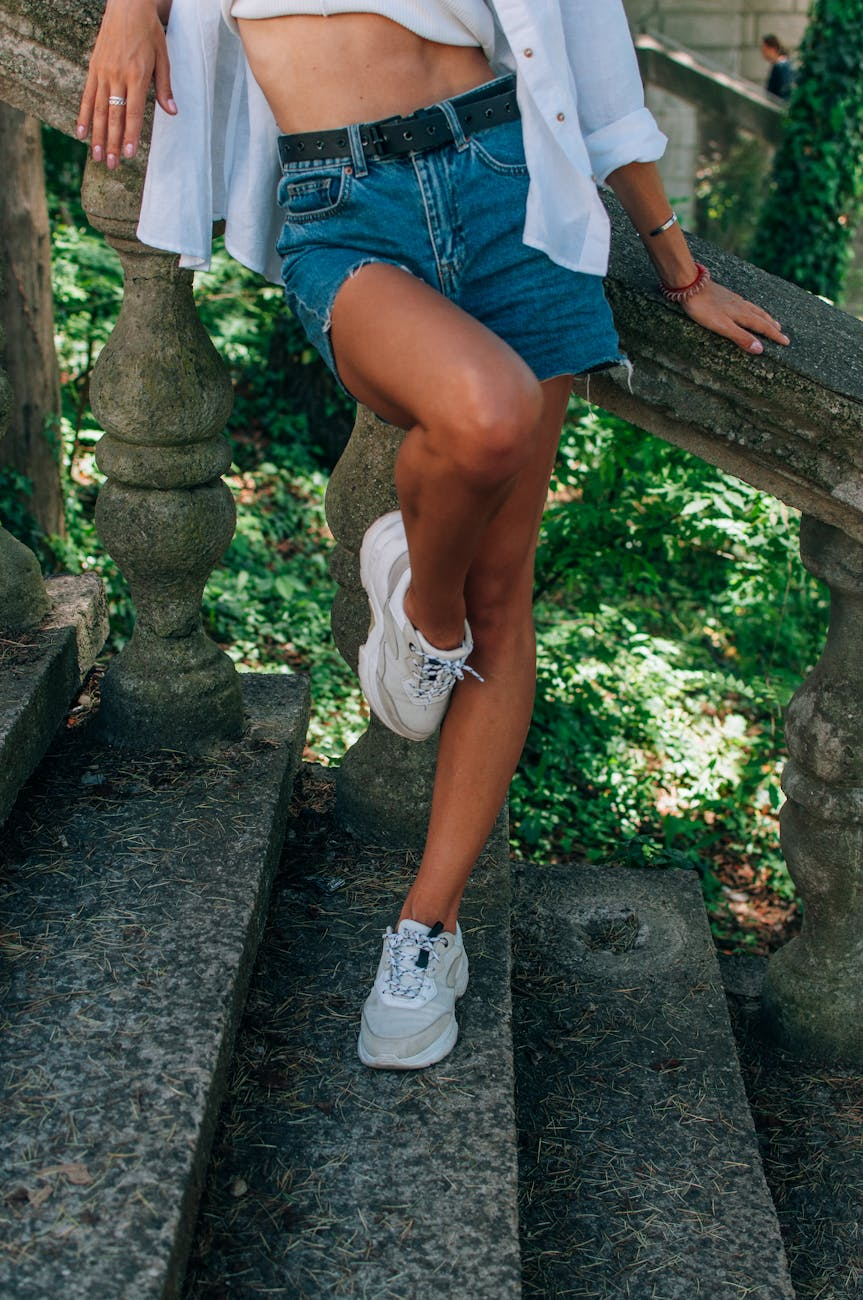crop_top: (164, 0, 660, 61)
shorts: (255, 91, 631, 377)
